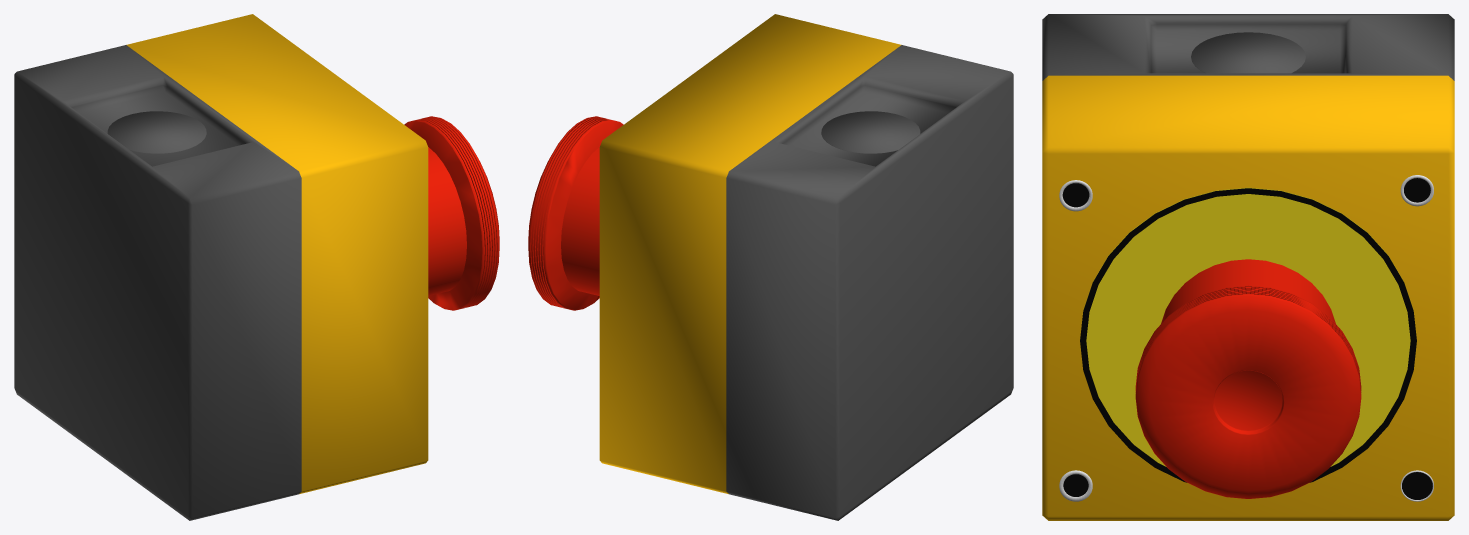
File: buton2.fbx
The picture shows the model from 3 angles, left to right: view 1: azimuth 30°, elevation 25°; view 2: azimuth 150°, elevation 25°; view 3: azimuth 270°, elevation 25°; orthographic projection. The views are drawn at different scales.
Parts seen in each view (by area): view 1: Cube, Cube.001, Cylinder.007, Cylinder.002; view 2: Cube, Cube.001, Cylinder.007, Cylinder.002; view 3: Cube.001, Cylinder.007, Cylinder.001, Cube, Cylinder.003, Cylinder.002, Cylinder.005, Cylinder.004.
Part boxes in pixels (x1,y1,x2,y2): Cube: [14, 45, 301, 520]; Cube.001: [126, 14, 428, 494]; Cylinder.007: [404, 116, 499, 310]; Cylinder.002: [107, 111, 206, 153]; Cube: [726, 45, 1013, 520]; Cube.001: [599, 14, 901, 494]; Cylinder.007: [528, 116, 623, 310]; Cylinder.002: [821, 111, 920, 153]; Cube.001: [1042, 75, 1454, 520]; Cylinder.007: [1135, 259, 1361, 498]; Cylinder.001: [1082, 187, 1414, 466]; Cube: [1042, 14, 1454, 80]; Cylinder.003: [1080, 188, 1416, 482]; Cylinder.002: [1191, 32, 1305, 73]; Cylinder.005: [1062, 178, 1432, 499]; Cylinder.004: [1059, 175, 1433, 501].
Size of the model in its own units: 95.88 by 82.43 by 82.43.
